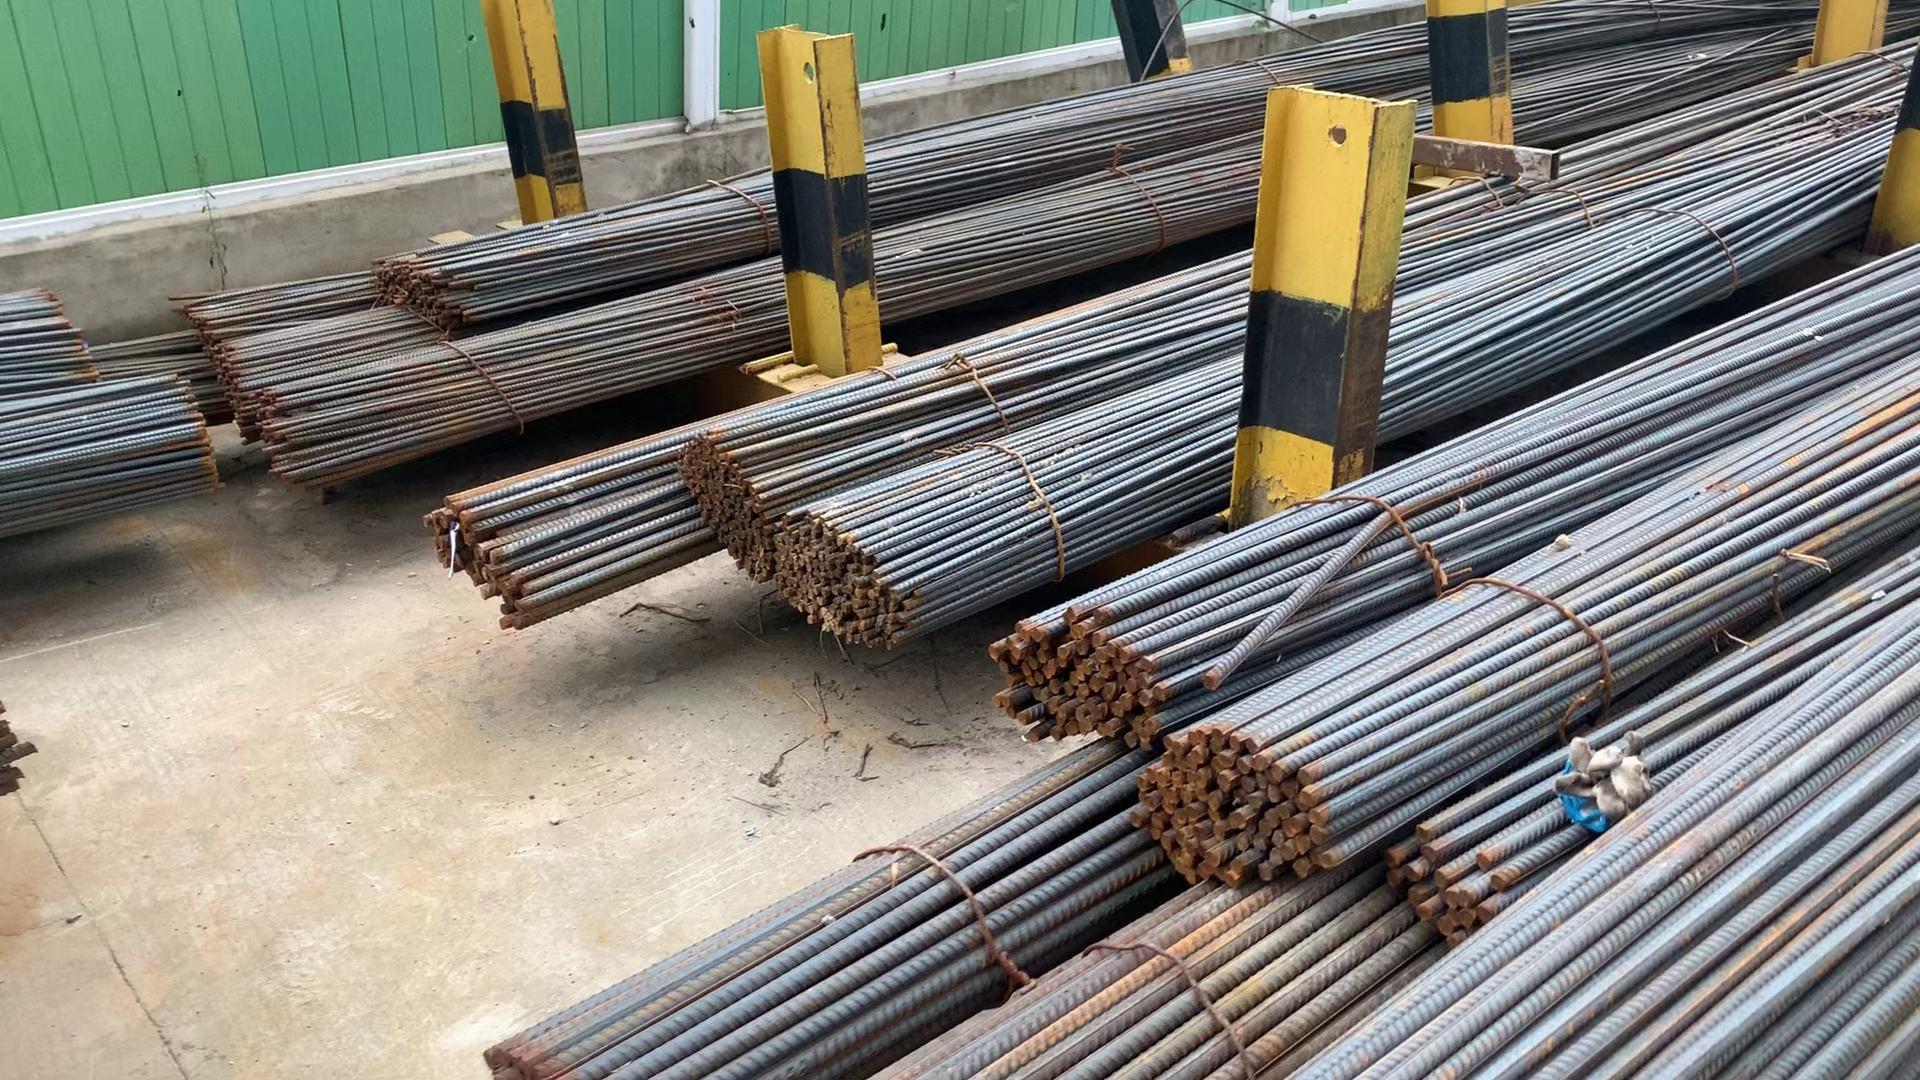rebar: (1138, 735, 1342, 884), (982, 618, 1162, 748), (774, 506, 911, 650), (415, 496, 533, 634), (679, 443, 775, 575), (1399, 822, 1510, 934), (360, 252, 479, 331)
